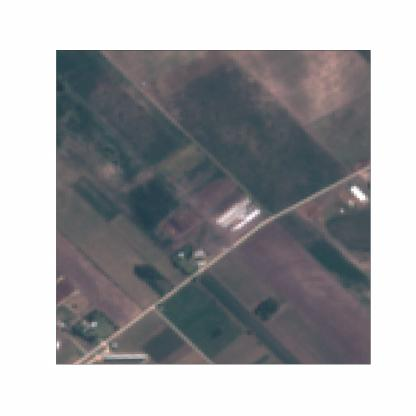silobolsa: (214, 200, 248, 226), (234, 208, 261, 230), (351, 182, 366, 204)
